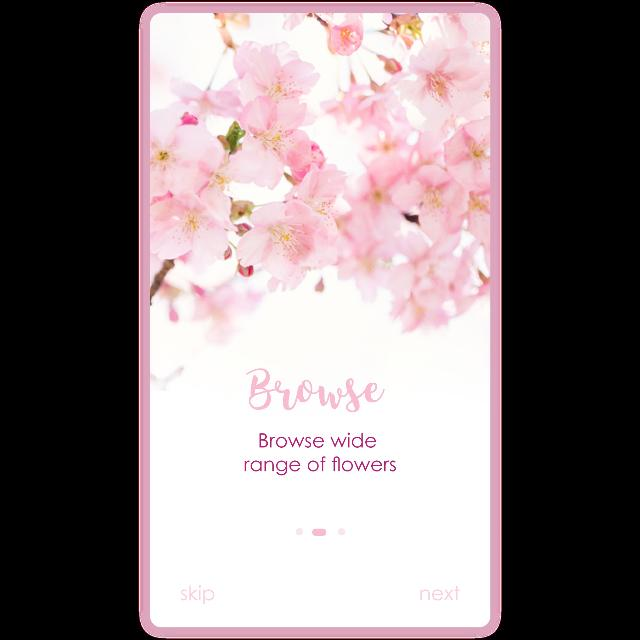backgroundimage: (151, 13, 491, 627)
image: (247, 368, 386, 412)
pageindicator: (296, 528, 346, 536)
text: (245, 432, 397, 476), (181, 586, 215, 604), (421, 586, 461, 600)
